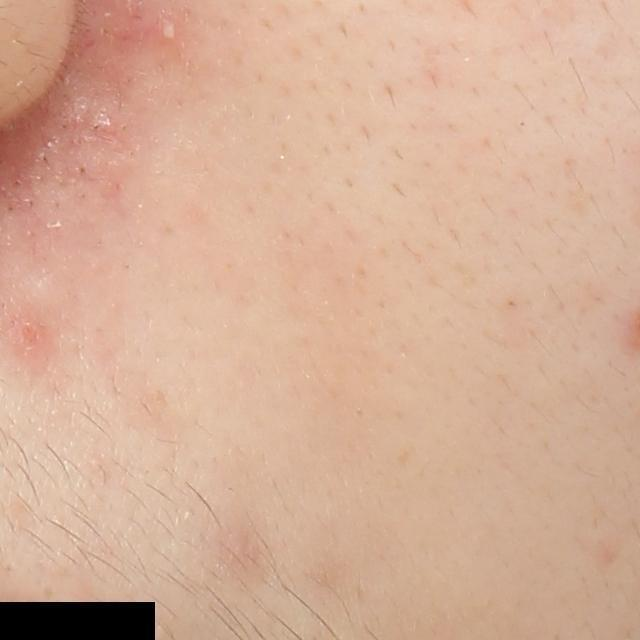papule: (15, 317, 46, 352)
pustule: (152, 17, 188, 43)
